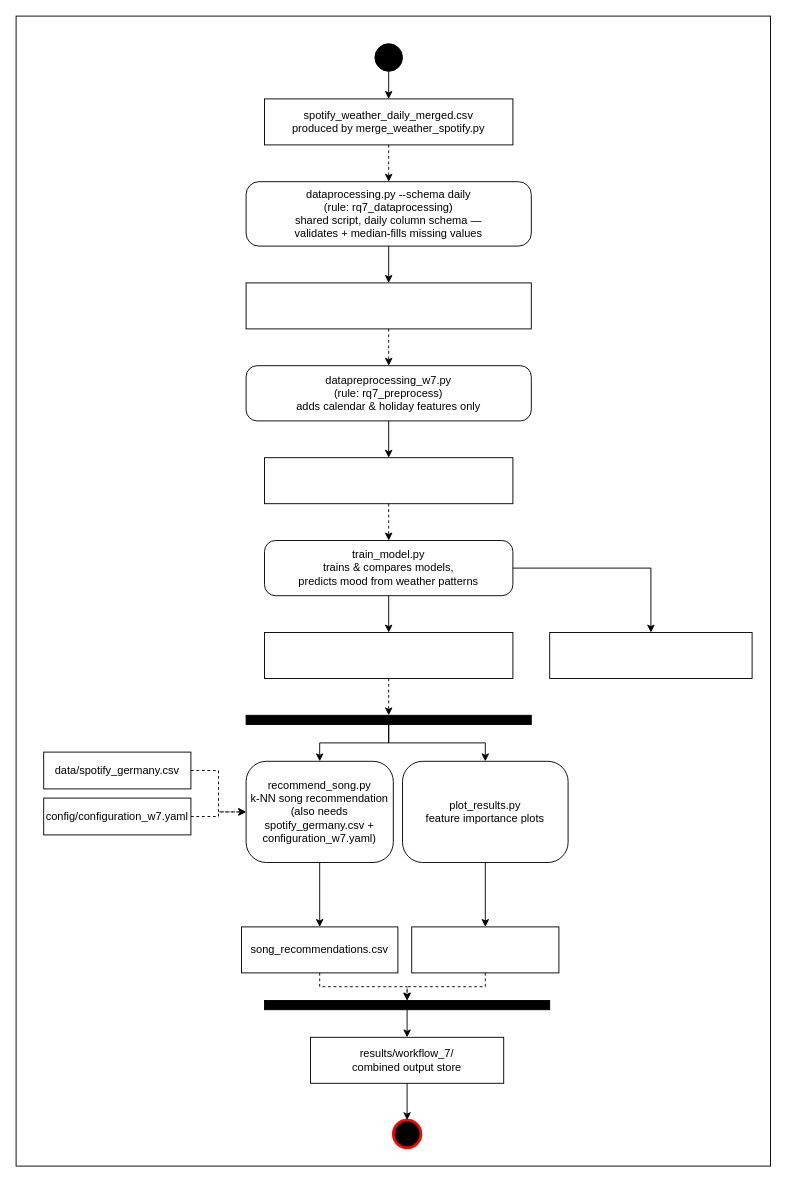
This 787x1182 diagram has some shape labels left out. The shapes that lost their labels are listed below. From the top down, each one's box as (x1, y1, x2, y2) in pixels, then its label:
(245, 282, 531, 329): spotify_weather_daily_merged_processed.csv
(264, 457, 513, 504): spotify_weather_daily_processed.csv
(264, 632, 513, 678): weather_model.pkl best model per mood target
(549, 632, 752, 678): weather_metrics.csv R2 / MAE per model & target
(411, 926, 559, 973): feature_importances.png
